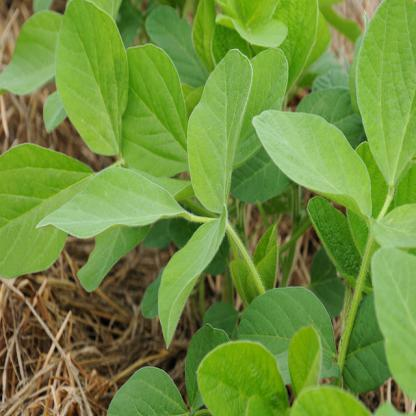Soyabean leaf: (252, 110, 374, 219), (34, 166, 190, 246), (143, 206, 226, 350), (354, 1, 416, 187), (186, 48, 252, 217), (370, 244, 416, 382)
